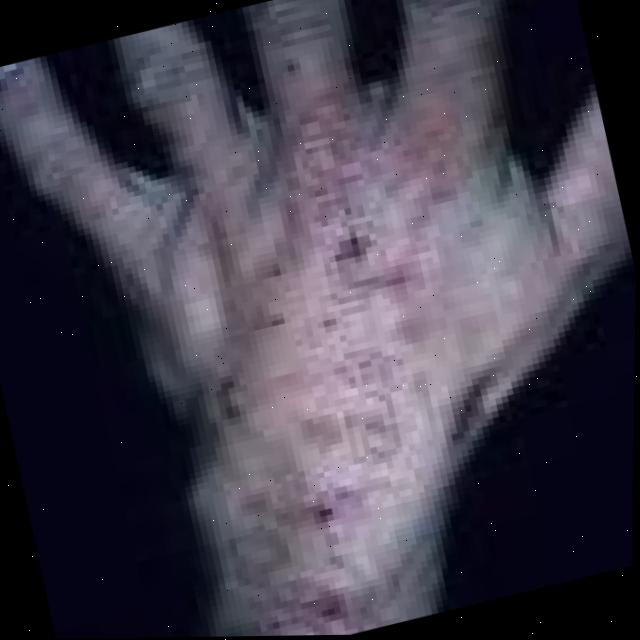Melasma: (121, 82, 574, 638)
